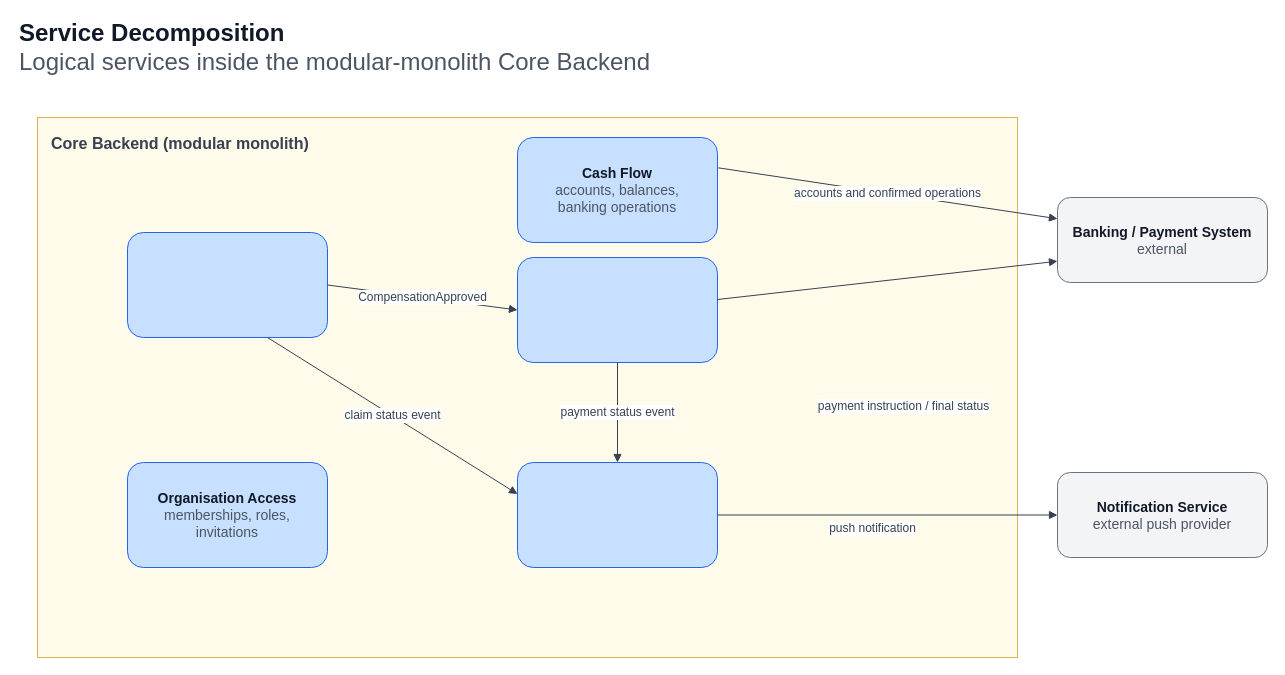
The diagram is 1285 pixels wide and 675 high, and some of its shapes have lost their labels. The shapes that lost their labels are listed below. From the top down, each one's centre as x and y in pixels, then its label:
At [227,285]: "Compensations claims, receipts, approval decisions".
At [617,309]: "Payments payments, retries, bank statuses".
At [617,515]: "Notifications notification requests, delivery status".
